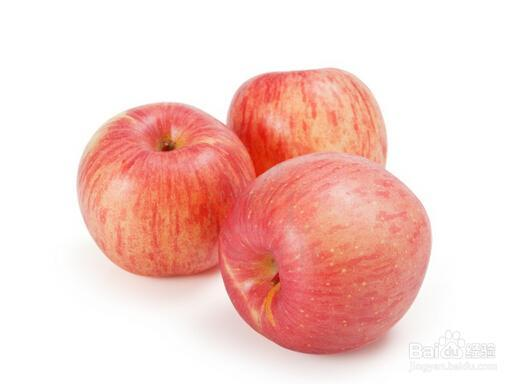apple: (218, 153, 432, 353), (75, 104, 257, 278), (227, 65, 386, 164)
